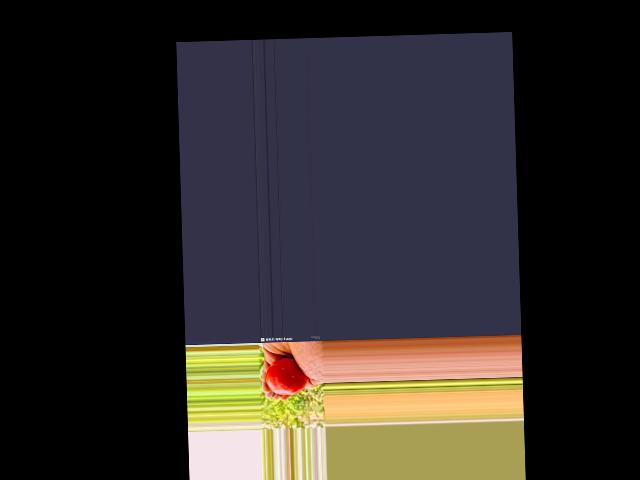tomato: (266, 357, 307, 395)
